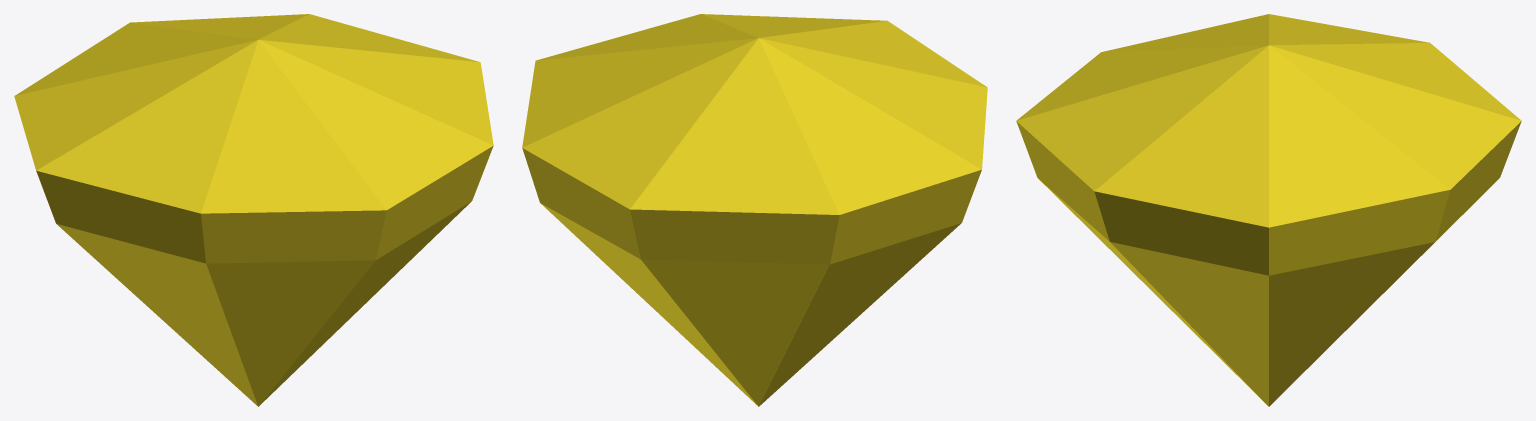
Rendered from ElectricJewel.fbx.
3 renders of one model, left to right at view 1: azimuth 30°, elevation 25°; view 2: azimuth 150°, elevation 25°; view 3: azimuth 270°, elevation 25°, orthographic.
Parts seen in each view (by area): view 1: Cube; view 2: Cube; view 3: Cube.
Boxes of the visible parts, bbox=[...] form: Cube: bbox=[14, 14, 493, 406]; Cube: bbox=[522, 14, 987, 406]; Cube: bbox=[1016, 14, 1521, 406].
Bounding box in the file's own units: 200 × 158 × 200.
